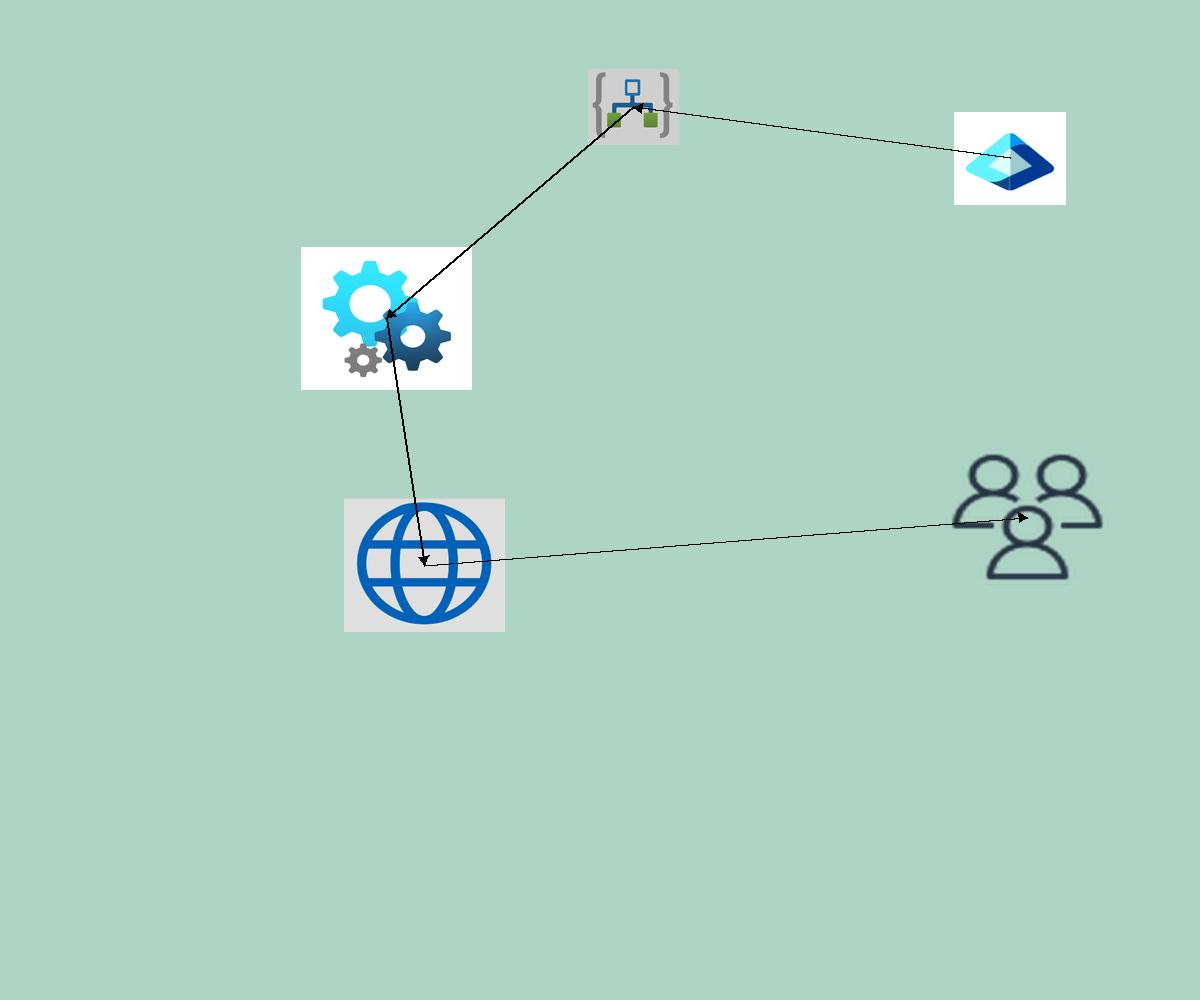AWS-Res_Users: (946, 449, 1109, 585)
Azure_api: (301, 247, 472, 390)
Azure_http: (344, 498, 505, 632)
Azure_integration-204-Logic-Apps: (588, 69, 679, 145)
Azure_microsoft_entra: (954, 112, 1066, 205)
